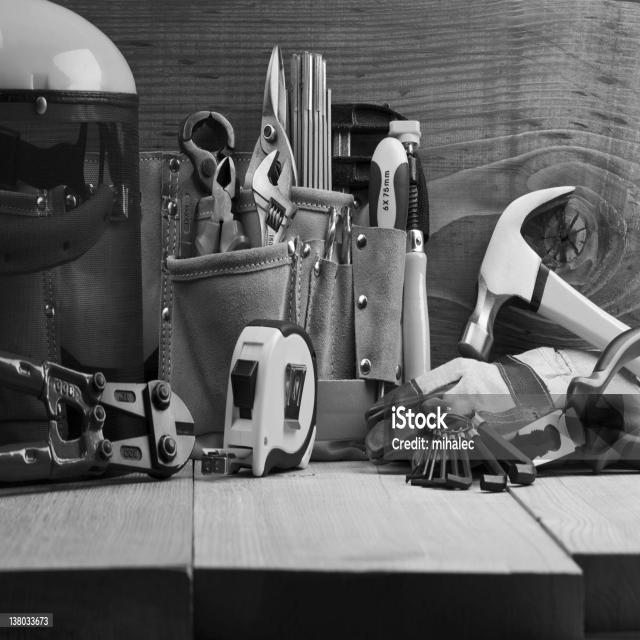face_shield: (0, 0, 151, 449)
golves: (366, 339, 640, 474)
measuring_tape: (200, 307, 328, 483)
pliers: (0, 346, 202, 497), (492, 322, 640, 494), (173, 103, 243, 247), (243, 42, 301, 186), (193, 154, 250, 258)
screwdriver: (366, 133, 411, 409)
wrench: (408, 402, 543, 519), (254, 141, 299, 241)
